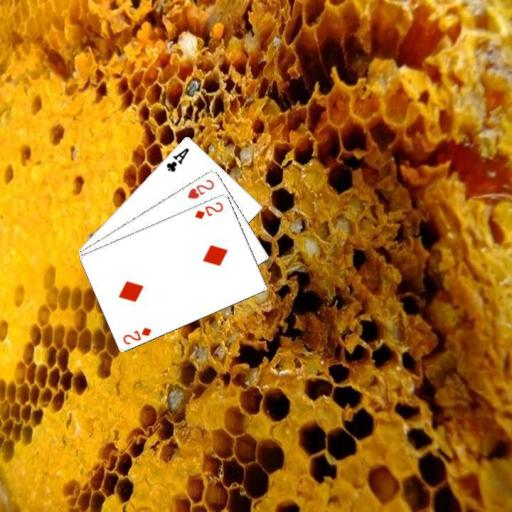2D: (191, 199, 225, 221), (119, 324, 153, 346)
2H: (184, 176, 216, 201)
AC: (163, 145, 190, 174)
